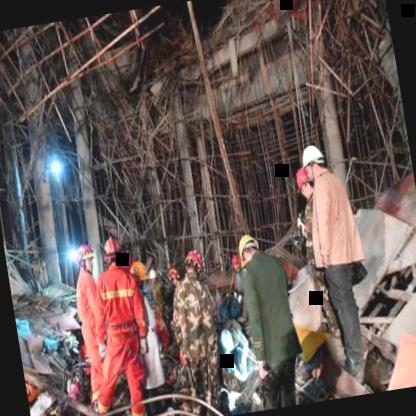helmet: (294, 141, 326, 192), (235, 228, 266, 275), (100, 232, 124, 278), (73, 242, 98, 284), (127, 258, 152, 300), (181, 247, 208, 284), (293, 164, 317, 204)
